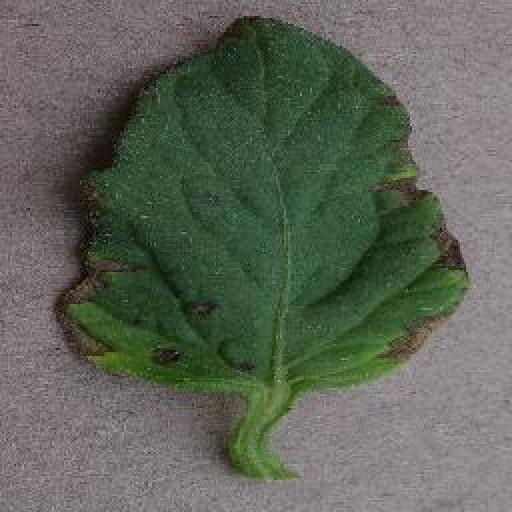Bacterial Spot: (57, 10, 475, 402)
